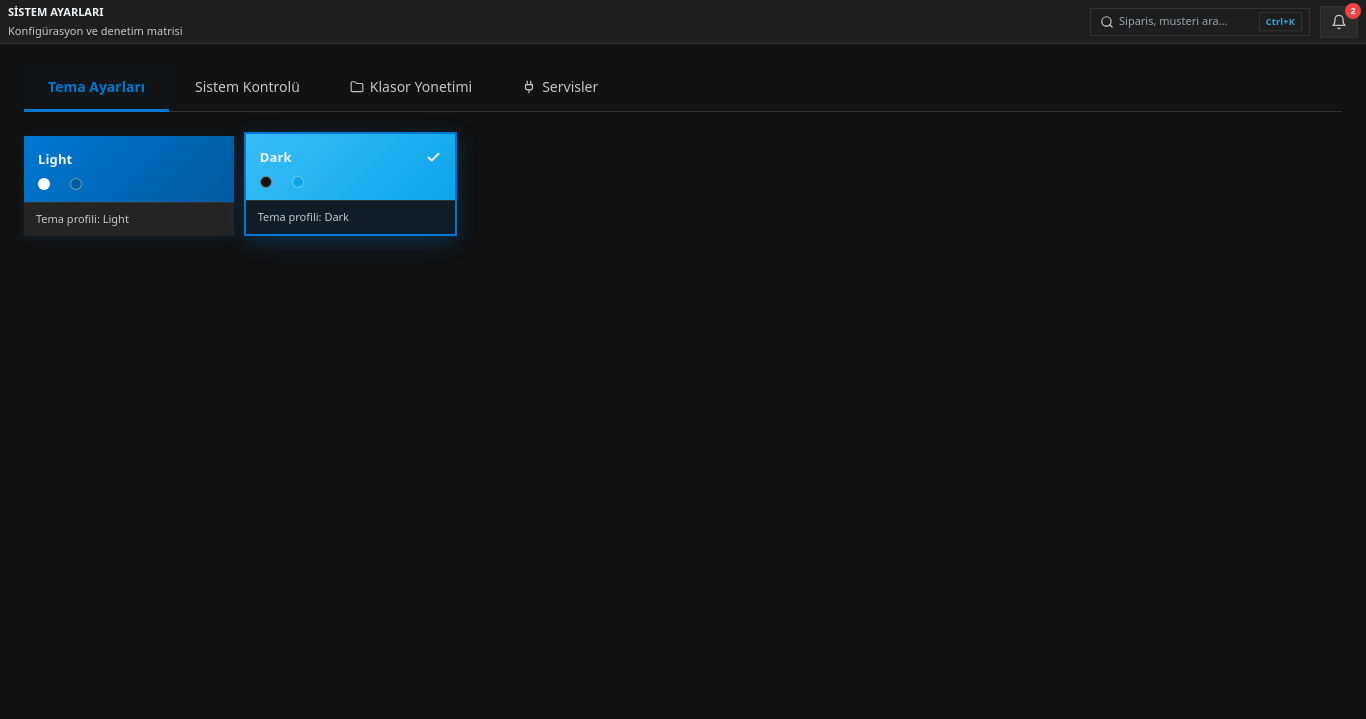
ConfigPage › klasor yonetimi ayni yol dogrulamasinda kaydetmeyi engeller
Click the button "Klasor Yonetimi" at x=411, y=88, box [326, 64, 496, 112]
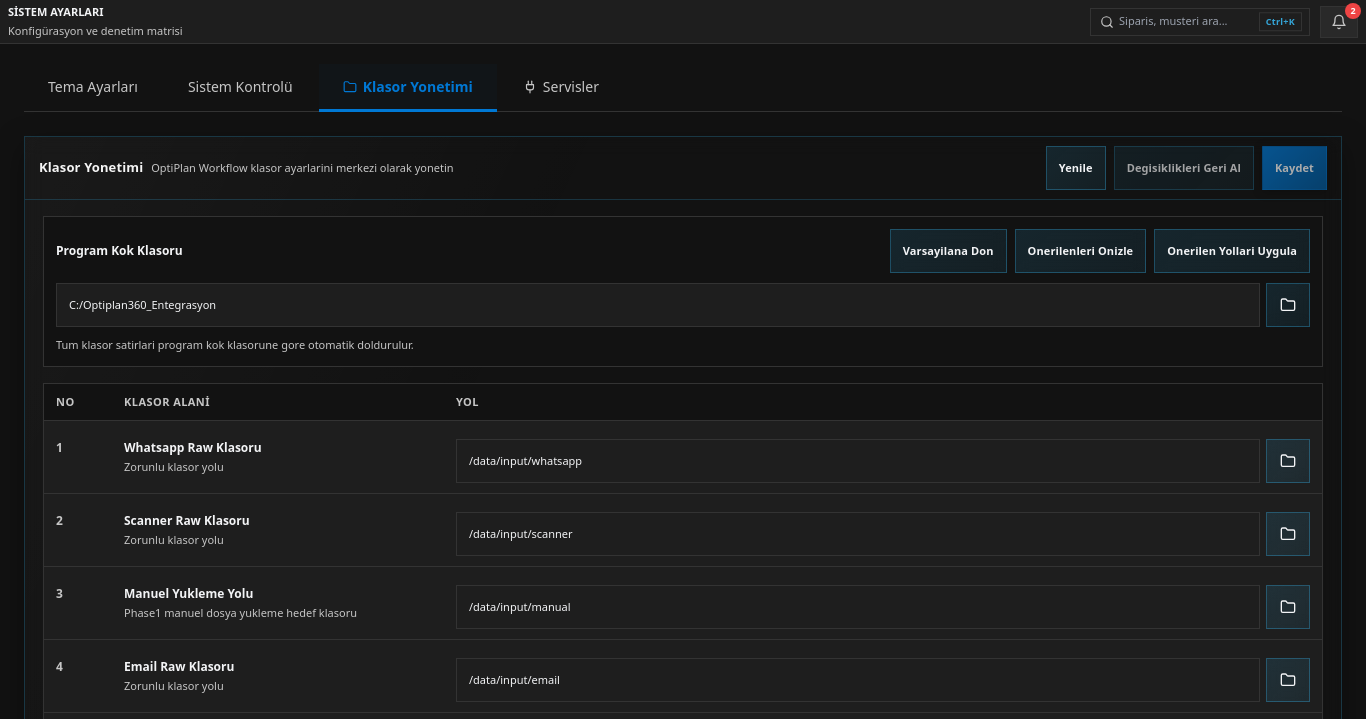
Replace the text in the field showing "/data/input/scanner" in the row of "Scanner Raw Klasoru" with "/data/input/whatsapp" at x=858, y=534, box [456, 512, 1260, 556]
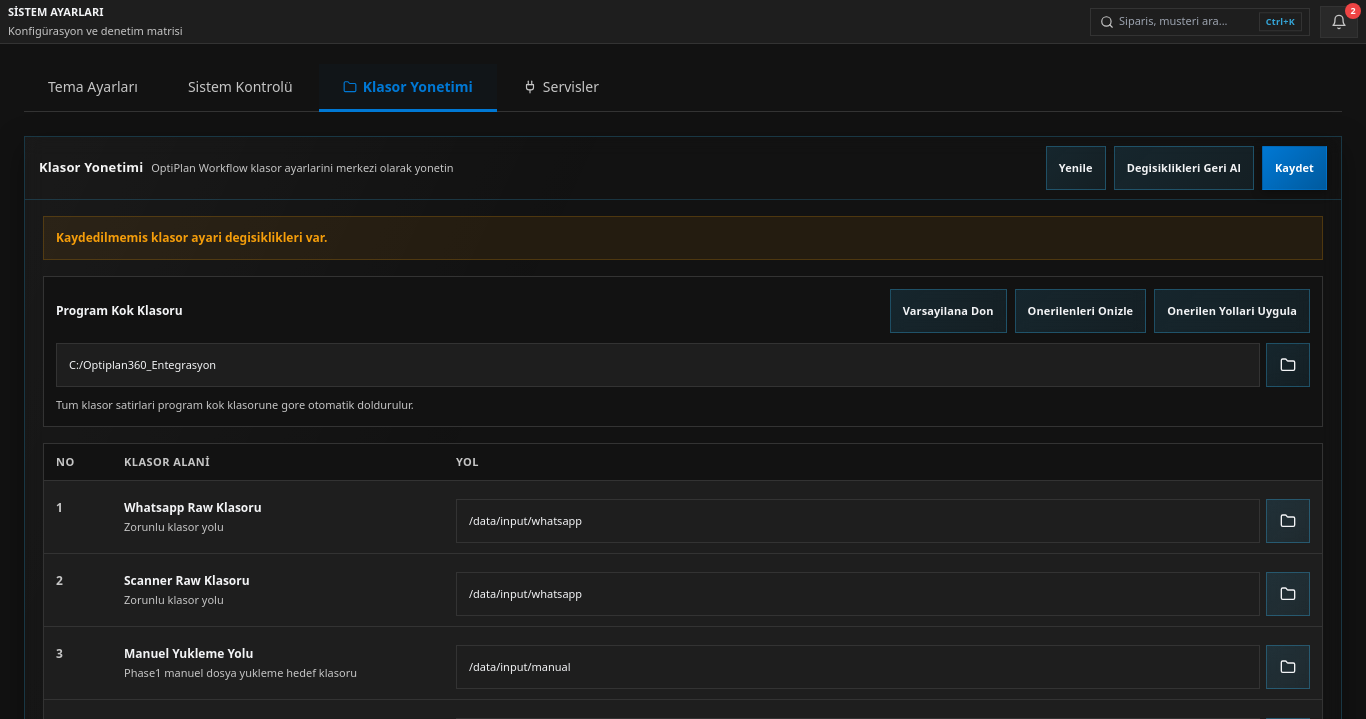
Click the button "Kaydet" at x=1294, y=168, box [1262, 146, 1327, 190]
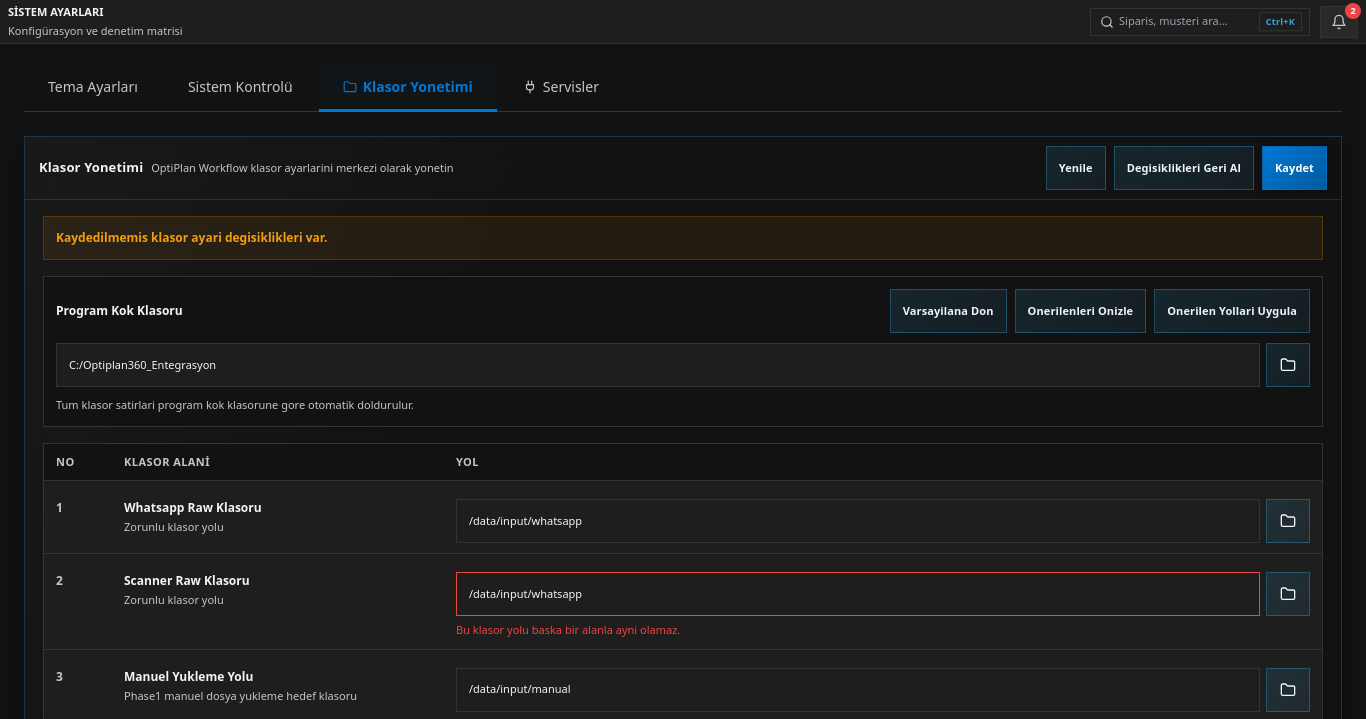
Expected: the text "Bu klasor yolu baska bir alanla ayni olamaz." is shown, [456, 622, 680, 637]
